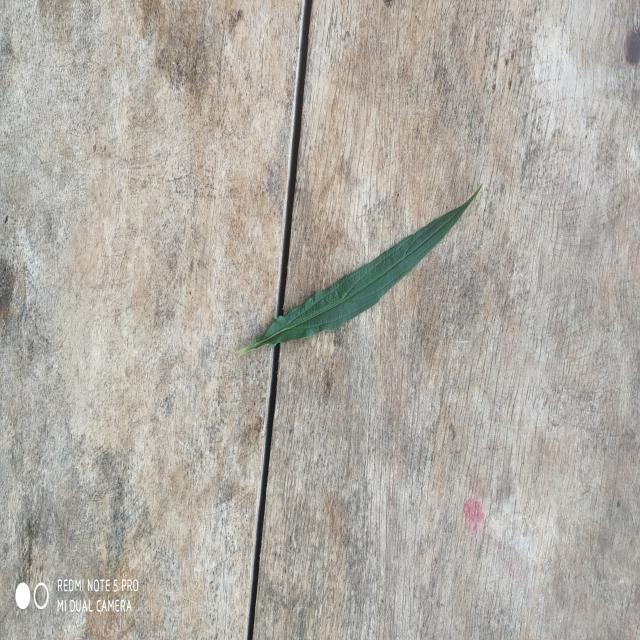thambe: (239, 187, 480, 356)
